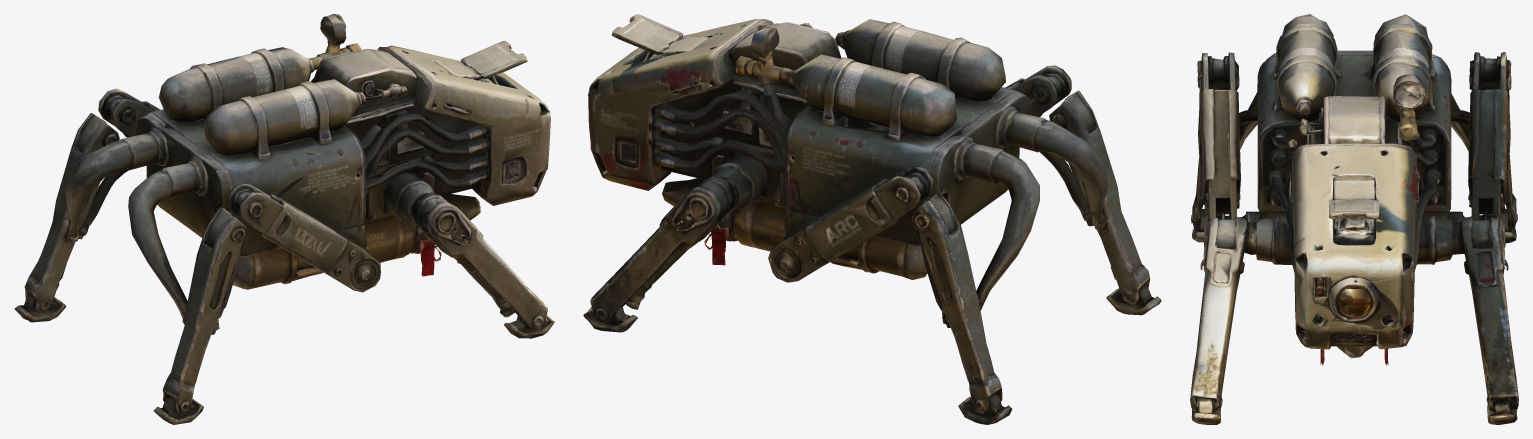
Rendered from cricket.glb.
The picture shows the model from 3 angles, left to right: view 1: azimuth 30°, elevation 25°; view 2: azimuth 150°, elevation 25°; view 3: azimuth 270°, elevation 25°; orthographic projection. The views are drawn at different scales.
Size of the model in its own units: 0.9785 by 0.5717 by 0.589.
Materials: 1 (1 with a texture image).
